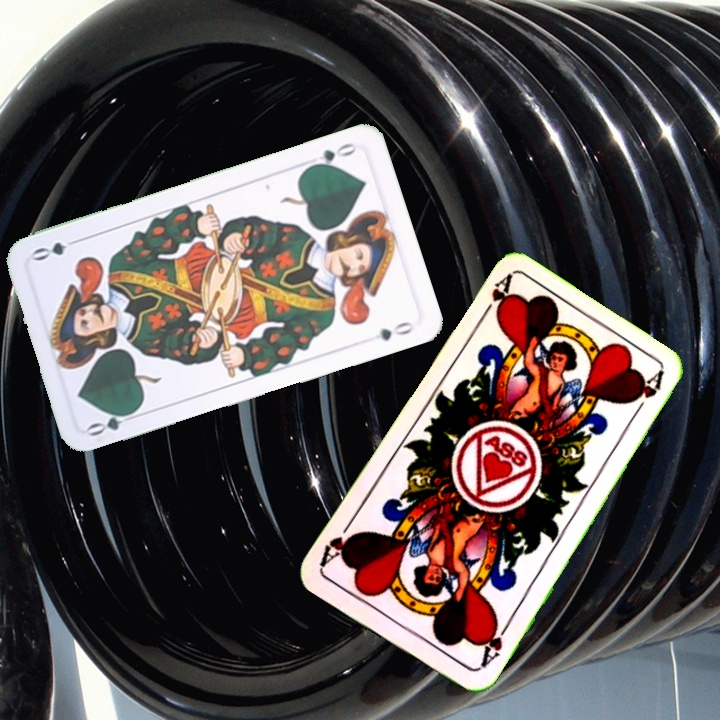GO: (83, 405, 142, 439), (304, 138, 361, 171)
HA: (475, 615, 513, 671), (474, 272, 514, 325)
